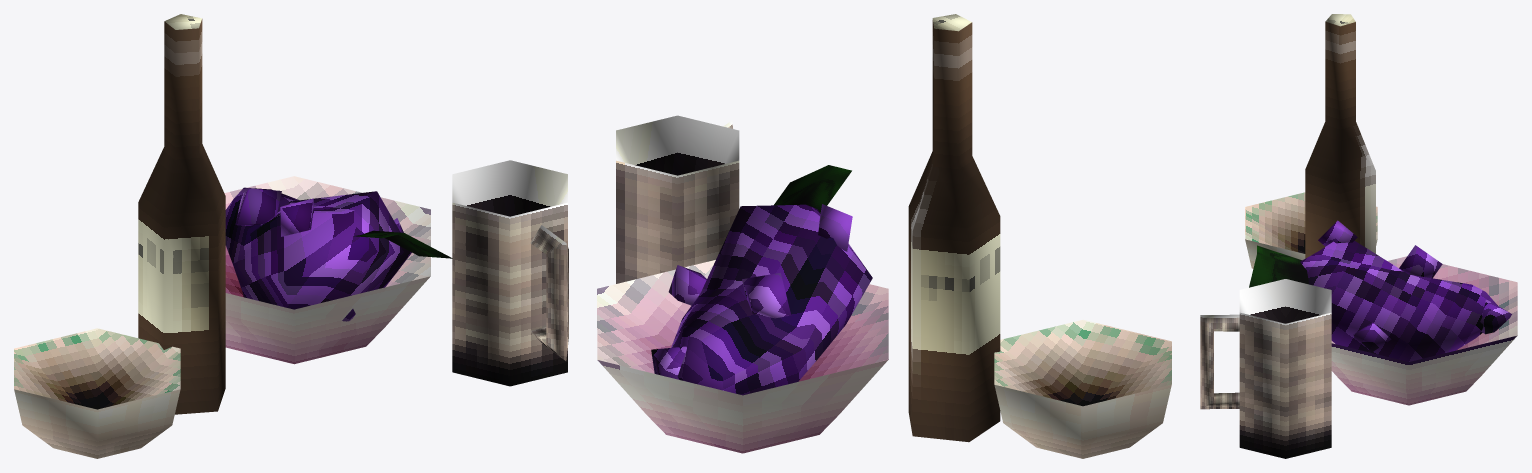
The model's file is Beer01.obj.
3 renders of one model, left to right at view 1: azimuth 30°, elevation 25°; view 2: azimuth 150°, elevation 25°; view 3: azimuth 270°, elevation 25°, orthographic. The views are drawn at different scales.
Visible parts, largest first — view 1: Mesh_2, Mesh_1, Mesh_4, Mesh_0, Mesh_3; view 2: Mesh_2, Mesh_4, Mesh_0, Mesh_1, Mesh_3; view 3: Mesh_2, Mesh_1, Mesh_4, Mesh_0, Mesh_3.
Part boxes in pixels (left/top/right/bottom): Mesh_2: left=224, top=176, right=430, bottom=364; Mesh_1: left=452, top=160, right=568, bottom=386; Mesh_4: left=138, top=14, right=225, bottom=414; Mesh_0: left=14, top=328, right=180, bottom=458; Mesh_3: left=353, top=230, right=452, bottom=258; Mesh_2: left=597, top=204, right=888, bottom=453; Mesh_4: left=908, top=14, right=1000, bottom=442; Mesh_0: left=994, top=319, right=1171, bottom=458; Mesh_1: left=616, top=115, right=739, bottom=283; Mesh_3: left=774, top=165, right=851, bottom=213; Mesh_2: left=1300, top=220, right=1517, bottom=405; Mesh_1: left=1200, top=279, right=1331, bottom=458; Mesh_4: left=1305, top=14, right=1375, bottom=258; Mesh_0: left=1245, top=192, right=1377, bottom=268; Mesh_3: left=1249, top=245, right=1308, bottom=287.
Bounding box in the file's own units: 0.9121 × 0.618 × 0.5857.
5 materials, 5 textured.
